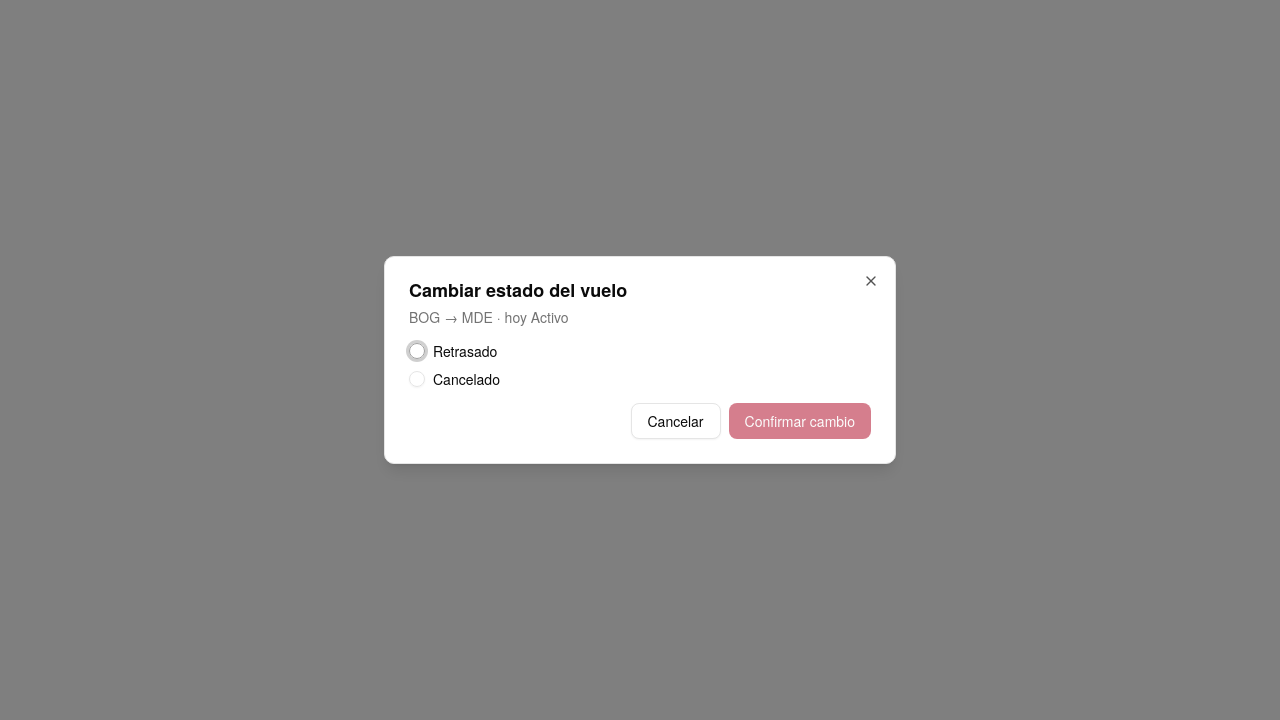
Test: FlightStatusDialog › warns that passengers will be emailed before cancelling
The image size is (1280, 720).
Step 1. Click the radio button named "Cancelado" next to "Cancelado" → (417, 379), box [409,371,425,387]
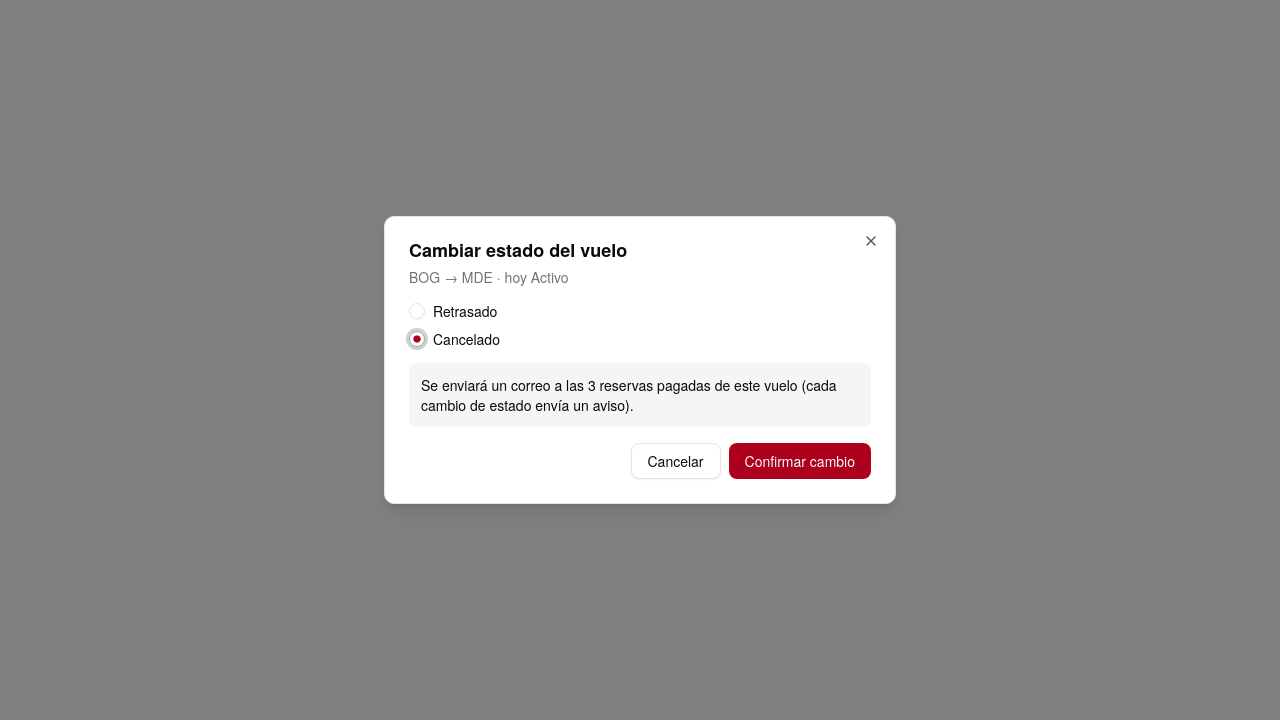
Expected: the text "Se enviará un correo a las 3 reservas pagadas" is shown, [421,375,836,415]
